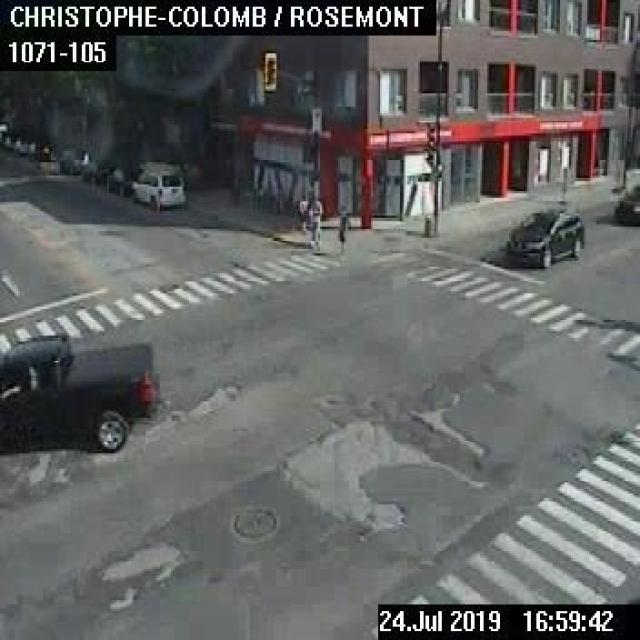pedestrian: (308, 195, 322, 247), (336, 204, 350, 251), (298, 193, 308, 231)
vehicle: (0, 334, 158, 454), (504, 208, 583, 266), (130, 160, 184, 210), (613, 183, 638, 224), (106, 167, 131, 194), (79, 160, 109, 182), (58, 148, 82, 172), (13, 137, 33, 153)
